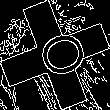O_W: (24, 26, 86, 84)
